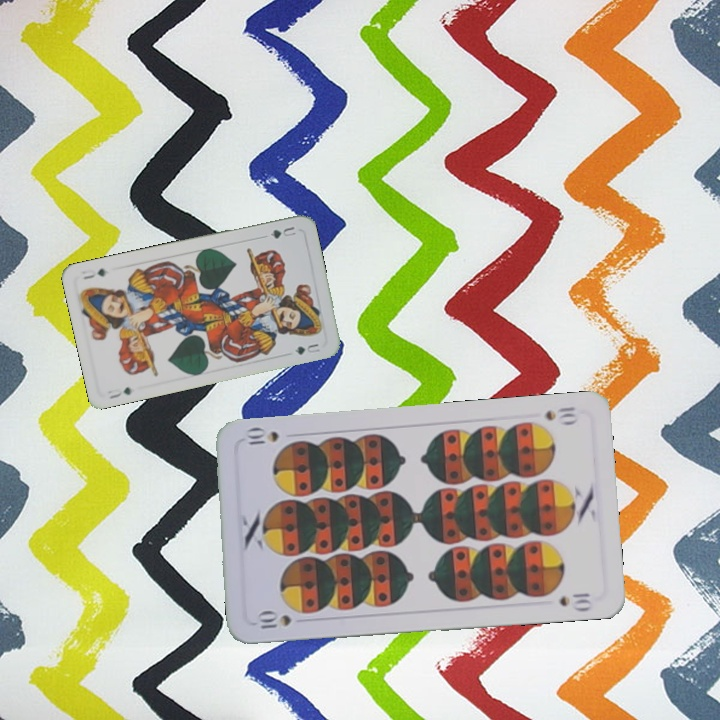GU: (266, 222, 299, 241), (103, 383, 134, 401)
S10: (541, 402, 580, 427), (254, 609, 294, 631)
